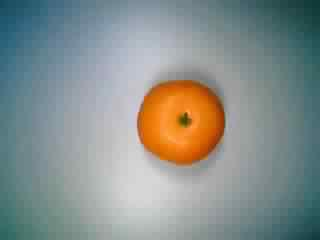orange: (128, 75, 226, 173)
